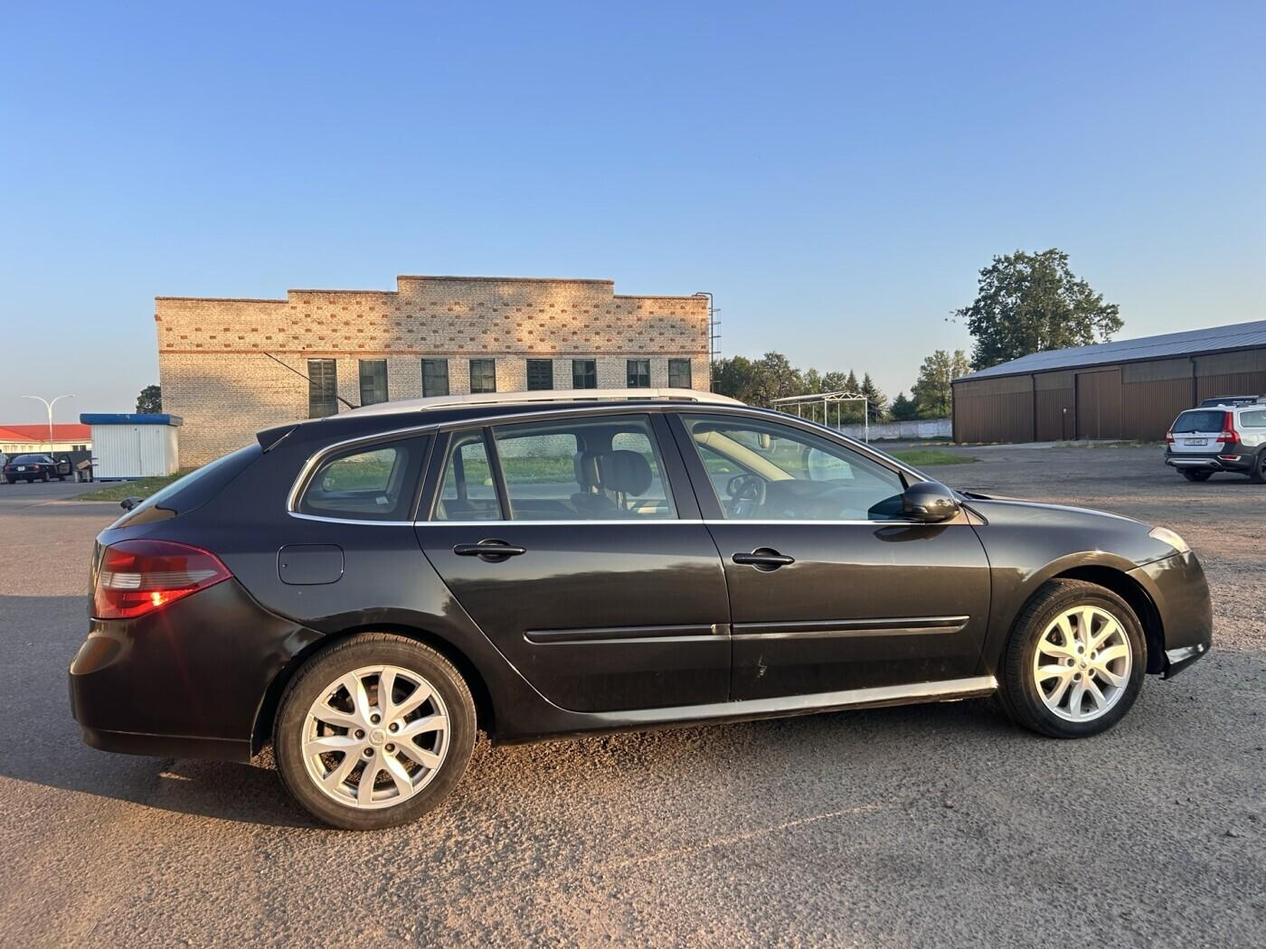Laguna_2007-2011: (68, 389, 1213, 830)
